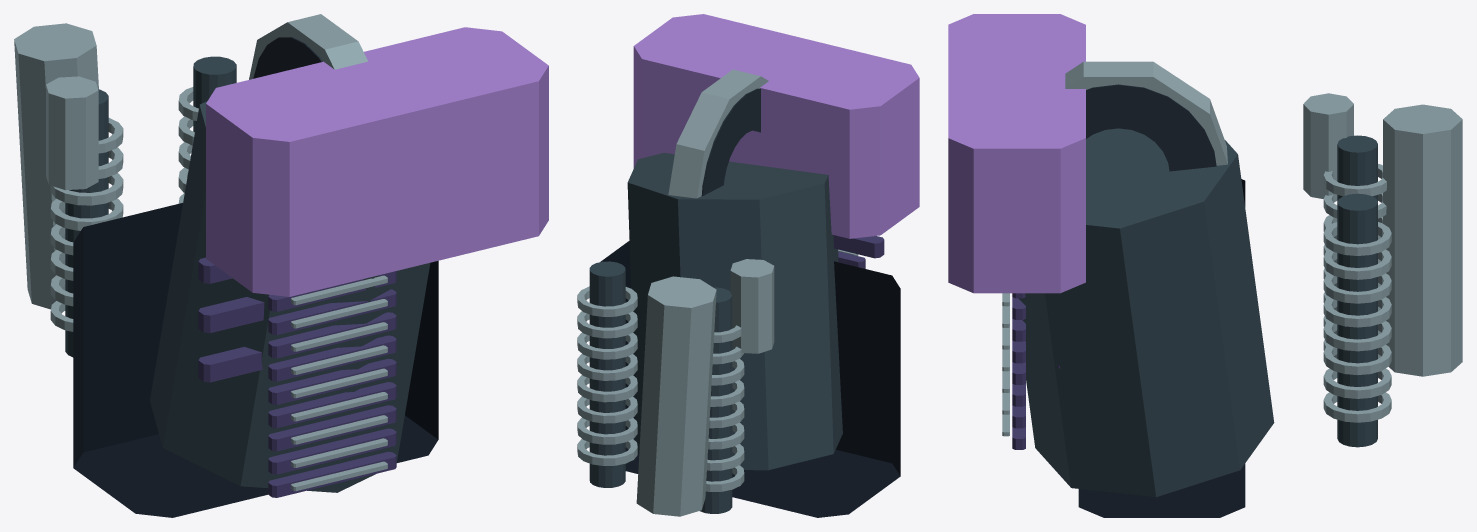
Rendered from enemy_tank_4k_shin_r.obj.
The picture shows the model from 3 angles, left to right: view 1: azimuth 30°, elevation 25°; view 2: azimuth 150°, elevation 25°; view 3: azimuth 270°, elevation 25°; orthographic projection. The views are drawn at different scales.
Size of the model in its own units: 0.51 by 0.6084 by 0.71.
